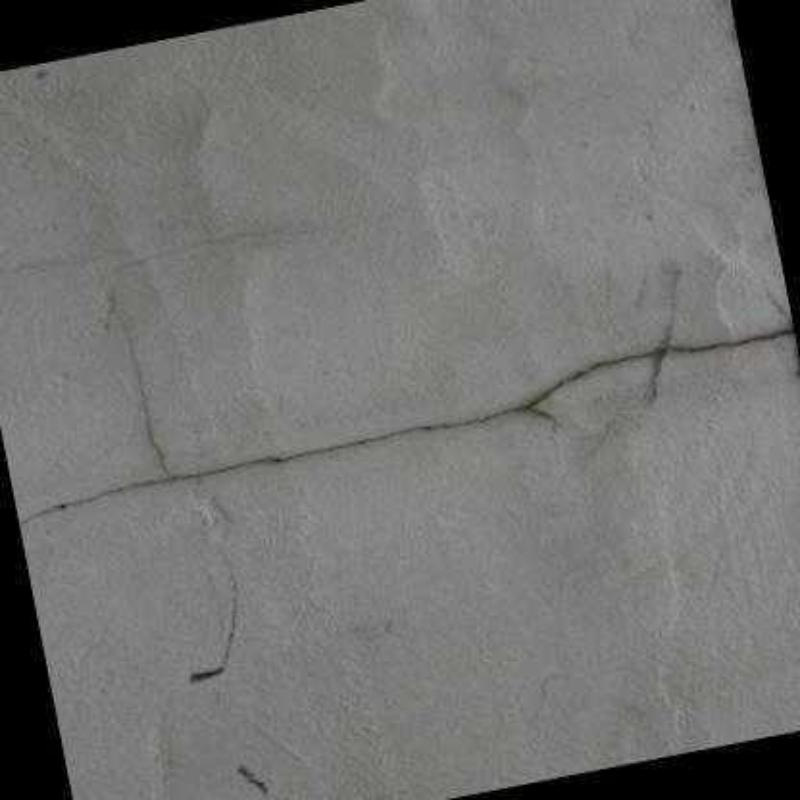crack: (16, 323, 799, 530), (106, 285, 169, 473), (188, 569, 240, 685)
